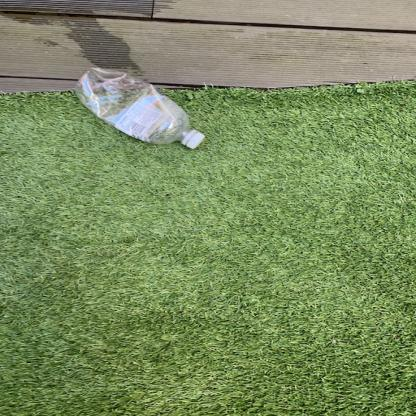trash: (74, 69, 210, 150)
